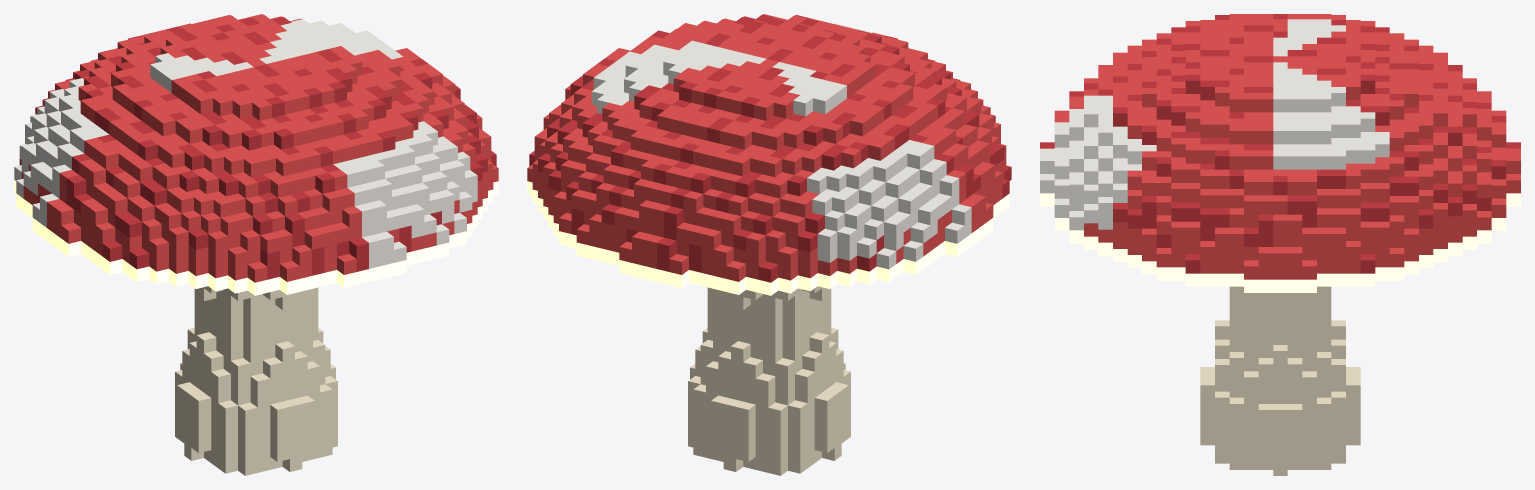
The model's file is E04_Mushroom_Giant.glb.
3 renders of one model, left to right at view 1: azimuth 30°, elevation 25°; view 2: azimuth 150°, elevation 25°; view 3: azimuth 270°, elevation 25°, orthographic.
Parts seen in each view (by area): view 1: E04_Body; view 2: E04_Body; view 3: E04_Body.
Boxes of the visible parts, box(x1,y1,x2,y2) form: E04_Body: box(14, 14, 498, 475); E04_Body: box(527, 14, 1011, 475); E04_Body: box(1040, 14, 1520, 475).
Bounding box in the file's own units: 2.64 × 2.32 × 2.64.
